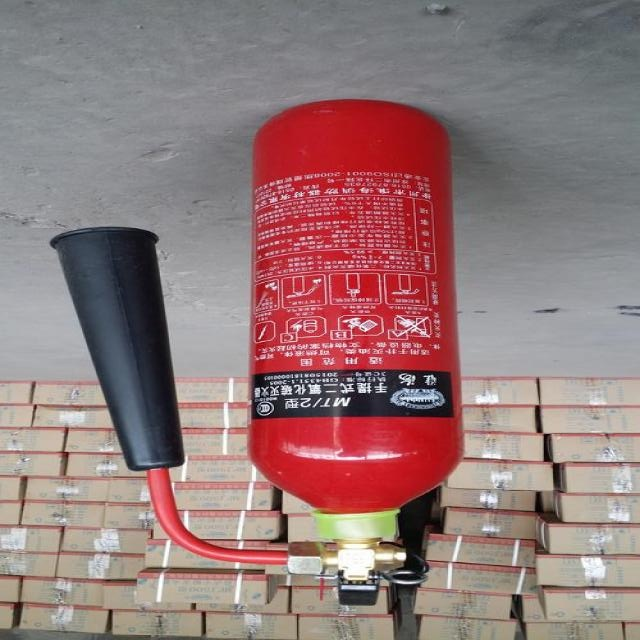fire extinguisher: (42, 94, 482, 598)
